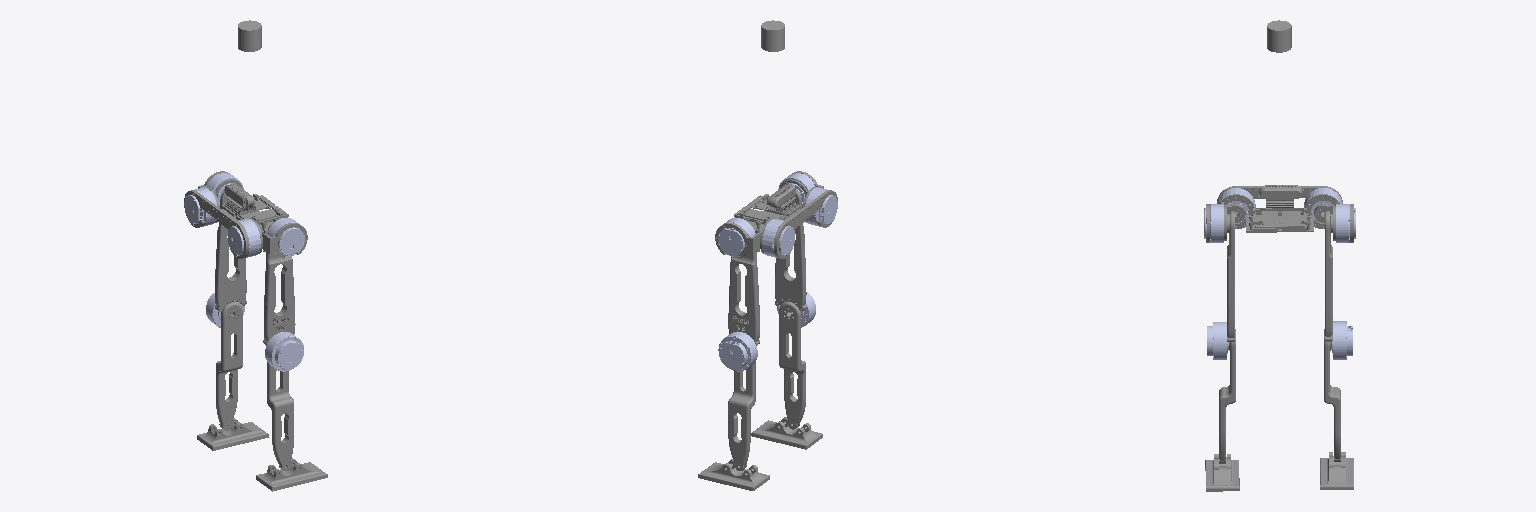
--- Render facts (derived) ---
Views: 3 orthographic renders of the robot side by side, from view 1: azimuth 30°, elevation 25°; view 2: azimuth 150°, elevation 25°; view 3: azimuth 270°, elevation 25°.
Model onshape with 19 links and 18 joints (8 revolute, 10 fixed), rooted at base, posed every joint at zero.
Visible links, largest first — view 1: left_shin, right_thigh_link, right_shin, left_thigh_link, right_foot, left_foot, right_knee_motor, base, back_hip_link, right_hip_pitch_motor, right_hip_roll_motor, additional_weight (+3 smaller); view 2: right_shin, left_thigh_link, left_shin, right_thigh_link, right_foot, left_foot, left_knee_motor, base, back_hip_link, left_hip_roll_motor, left_hip_pitch_motor, additional_weight (+3 smaller); view 3: base, left_foot, right_foot, right_thigh_link, left_thigh_link, right_shin, left_shin, depth_camera, left_knee_motor, additional_weight, right_knee_motor, front_hip_link (+2 smaller).
Boxes of the visible links, x1=… form: left_shin: x1=216, y1=302, x2=242, y2=430; right_thigh_link: x1=263, y1=222, x2=295, y2=345; right_shin: x1=267, y1=362, x2=293, y2=470; left_thigh_link: x1=215, y1=190, x2=246, y2=311; right_foot: x1=256, y1=458, x2=327, y2=491; left_foot: x1=197, y1=418, x2=268, y2=450; right_knee_motor: x1=265, y1=332, x2=303, y2=371; base: x1=221, y1=194, x2=288, y2=230; back_hip_link: x1=184, y1=190, x2=248, y2=258; right_hip_pitch_motor: x1=267, y1=218, x2=304, y2=257; right_hip_roll_motor: x1=228, y1=219, x2=260, y2=257; additional_weight: x1=238, y1=20, x2=261, y2=51; right_shin: x1=779, y1=302, x2=805, y2=429; left_thigh_link: x1=728, y1=221, x2=759, y2=345; left_shin: x1=728, y1=361, x2=755, y2=470; right_thigh_link: x1=775, y1=189, x2=806, y2=310; right_foot: x1=751, y1=417, x2=822, y2=449; left_foot: x1=698, y1=459, x2=769, y2=490; left_knee_motor: x1=718, y1=331, x2=757, y2=371; base: x1=734, y1=194, x2=800, y2=230; back_hip_link: x1=774, y1=190, x2=837, y2=258; left_hip_roll_motor: x1=762, y1=219, x2=794, y2=257; left_hip_pitch_motor: x1=718, y1=218, x2=755, y2=257; additional_weight: x1=761, y1=20, x2=784, y2=51; base: x1=1246, y1=208, x2=1313, y2=232; left_foot: x1=1320, y1=452, x2=1353, y2=489; right_foot: x1=1205, y1=454, x2=1239, y2=491; right_thigh_link: x1=1227, y1=211, x2=1234, y2=341; left_thigh_link: x1=1325, y1=211, x2=1332, y2=341; right_shin: x1=1219, y1=329, x2=1235, y2=463; left_shin: x1=1324, y1=329, x2=1340, y2=461; depth_camera: x1=1259, y1=185, x2=1302, y2=209; left_knee_motor: x1=1331, y1=321, x2=1352, y2=359; additional_weight: x1=1267, y1=20, x2=1291, y2=52; right_knee_motor: x1=1207, y1=322, x2=1228, y2=359; front_hip_link: x1=1219, y1=194, x2=1339, y2=228.
Size in the robot's own frame: 0.1906 by 0.3126 by 1.01 metres.
Meshes: 19 distinct files referenced, 19 mesh visuals loaded (19 binary STL).

robot.urdf — onshape:
<robot name="onshape">
  <link name="base">
    <visual>
      <origin xyz="-0.045730749519903440836 -0.0082072827577965683232 -0.0015259523696167201674" rpy="1.1287575842245359155e-06 1.2111745102661272307e-07 1.0877526837916786373e-10" />
      <geometry>
        <mesh filename="../meshes/base.stl"/>
      </geometry>
      <material name="base_material">
        <color rgba="0.62745098039215685404 0.62745098039215685404 0.62745098039215685404 1.0"/>
      </material>
    </visual>
    <collision>
      <origin xyz="-0.045730749519903440836 -0.0082072827577965683232 -0.0015259523696167201674" rpy="1.1287575842245359155e-06 1.2111745102661272307e-07 1.0877526837916786373e-10" />
      <geometry>
        <mesh filename="../meshes/base.stl"/>
      </geometry>
    </collision>
    <inertial>
      <origin xyz="0.009641034317188136582 -0.00044531973330051542606 0.14704238039010950057" rpy="0 0 0"/>
      <mass value="0.079808747893360745818" />
      <inertia ixx="0.00013030205881717430295" ixy="5.2522703368767829232e-07" ixz="-6.0372951836182364171e-06" iyy="7.7879538079020268733e-05" iyz="-6.8787272522159362914e-08" izz="0.00019751462545686818877" />
    </inertial>
  </link>

  <link name="front_hip_link">
    <visual>
      <origin xyz="0.0068676530549641439521 0.14076439629114745333 0.0050740043853120878059" rpy="1.5359093073540210916 -1.5680293120733510559 -4.7437124823534062086e-18" />
      <geometry>
        <mesh filename="../meshes/front_hip_link.stl"/>
      </geometry>
      <material name="front_hip_link_material">
        <color rgba="0.62745098039215685404 0.62745098039215685404 0.62745098039215685404 1.0"/>
      </material>
    </visual>
    <collision>
      <origin xyz="0.0068676530549641439521 0.14076439629114745333 0.0050740043853120878059" rpy="1.5359093073540210916 -1.5680293120733510559 -4.7437124823534062086e-18" />
      <geometry>
        <mesh filename="../meshes/front_hip_link.stl"/>
      </geometry>
    </collision>
    <inertial>
      <origin xyz="-2.0708261494473137155e-16 -1.5860522530747322989e-16 -0.0024999999999999996184" rpy="0 0 0"/>
      <mass value="0.040481629412169171933" />
      <inertia ixx="1.6307564497292241409e-05" ixy="7.6652781935439138388e-06" ixz="-4.9422583031528792093e-20" iyy="0.0002356583046680151537" iyz="-3.4272057502030976311e-22" izz="0.00025179719570942344113" />
    </inertial>
  </link>

  <link name="right_hip_roll_motor">
    <visual>
      <origin xyz="-0.081803134490043269422 0.18041787558075139675 0.010074004385312036736" rpy="1.5359093073548986119 -1.5680293120733554968 5.7609175276568746102e-18" />
      <geometry>
        <mesh filename="../meshes/right_hip_roll_motor.stl"/>
      </geometry>
      <material name="right_hip_roll_motor_material">
        <color rgba="0.79215686274509800047 0.81960784313725487671 0.93333333333333334814 1.0"/>
      </material>
    </visual>
    <collision>
      <origin xyz="-0.081803134490043269422 0.18041787558075139675 0.010074004385312036736" rpy="1.5359093073548986119 -1.5680293120733554968 5.7609175276568746102e-18" />
      <geometry>
        <mesh filename="../meshes/right_hip_roll_motor.stl"/>
      </geometry>
    </collision>
    <inertial>
      <origin xyz="0.0012042593384955918578 0.033039175850507612742 -0.015294958960932482014" rpy="0 0 0"/>
      <mass value="0.43109000312627787643" />
      <inertia ixx="0.00020733431482151921336" ixy="-2.4888440111499877061e-07" ixz="5.8890665633822342232e-07" iyy="0.00020669165269251427012" iyz="-9.5892831643057758225e-08" izz="0.0003320013282403831245" />
    </inertial>
  </link>

  <link name="right_hip_roll_to_pitch_link">
    <visual>
      <origin xyz="-0.082954223767753687557 -0.14743795754755950611 -0.0083740043853124425388" rpy="-1.605683346234665354 1.5680293120733512779 8.7936460767347865538e-18" />
      <geometry>
        <mesh filename="../meshes/right_hip_roll_to_pitch_link.stl"/>
      </geometry>
      <material name="right_hip_roll_to_pitch_link_material">
        <color rgba="0.62745098039215685404 0.62745098039215685404 0.62745098039215685404 1.0"/>
      </material>
    </visual>
    <collision>
      <origin xyz="-0.082954223767753687557 -0.14743795754755950611 -0.0083740043853124425388" rpy="-1.605683346234665354 1.5680293120733512779 8.7936460767347865538e-18" />
      <geometry>
        <mesh filename="../meshes/right_hip_roll_to_pitch_link.stl"/>
      </geometry>
    </collision>
    <inertial>
      <origin xyz="0.031680419746431626171 0.0034582889896500753311 -0.027209413175237839866" rpy="0 0 0"/>
      <mass value="0.045695605396871126491" />
      <inertia ixx="5.0984076036548068634e-05" ixy="-2.1814040497246072079e-06" ixz="1.4212217633911819925e-05" iyy="6.4164050105891309969e-05" iyz="3.6233257777906916119e-06" izz="3.8488709330492470269e-05" />
    </inertial>
  </link>

  <link name="right_hip_pitch_motor">
    <visual>
      <origin xyz="-0.065909043724676111276 -0.17563794455302653152 -0.14176108125382116953" rpy="-1.5707946421508571788 -0.0027653308658020601257 -5.7095621078178768904e-23" />
      <geometry>
        <mesh filename="../meshes/right_hip_pitch_motor.stl"/>
      </geometry>
      <material name="right_hip_pitch_motor_material">
        <color rgba="0.79215686274509800047 0.81960784313725487671 0.93333333333333334814 1.0"/>
      </material>
    </visual>
    <collision>
      <origin xyz="-0.065909043724676111276 -0.17563794455302653152 -0.14176108125382116953" rpy="-1.5707946421508571788 -0.0027653308658020601257 -5.7095621078178768904e-23" />
      <geometry>
        <mesh filename="../meshes/right_hip_pitch_motor.stl"/>
      </geometry>
    </collision>
    <inertial>
      <origin xyz="-0.01793234226342847043 -0.031126026203607014275 -0.013712645989826410808" rpy="0 0 0"/>
      <mass value="0.4299748309594162432" />
      <inertia ixx="0.0002059353604421458833" ixy="-2.4212674676479866087e-07" ixz="4.1578167110720044488e-08" iyy="0.00020651306450079860233" iyz="-6.059628266606604354e-07" izz="0.00033105106729853459599" />
    </inertial>
  </link>

  <link name="right_thigh_link">
    <visual>
      <origin xyz="-0.04791205293731684578 -0.14445929284068192988 -0.11260808125381957523" rpy="-1.5707946421508605095 -0.0027653308658020805087 -1.0228629501493198265e-24" />
      <geometry>
        <mesh filename="../meshes/right_thigh_link.stl"/>
      </geometry>
      <material name="right_thigh_link_material">
        <color rgba="0.62745098039215685404 0.62745098039215685404 0.62745098039215685404 1.0"/>
      </material>
    </visual>
    <collision>
      <origin xyz="-0.04791205293731684578 -0.14445929284068192988 -0.11260808125381957523" rpy="-1.5707946421508605095 -0.0027653308658020805087 -1.0228629501493198265e-24" />
      <geometry>
        <mesh filename="../meshes/right_thigh_link.stl"/>
      </geometry>
    </collision>
    <inertial>
      <origin xyz="0.0013136487452961448374 -0.12460737280558908946 -0.010238901930657934303" rpy="0 0 0"/>
      <mass value="0.21768660603706896373" />
      <inertia ixx="0.0014027683639551374959" ixy="1.0122485263375427528e-05" ixz="-1.1180785934677625053e-07" iyy="9.2762850966588512782e-05" iyz="6.3162863677351129802e-06" izz="0.0014861975388487640853" />
    </inertial>
  </link>

  <link name="right_knee_motor">
    <visual>
      <origin xyz="-0.047879359409329982911 -0.088514658039291149727 0.1110610812538199571" rpy="1.5707980114389359372 0.0027653308658020601257 1.2363360107722663189e-25" />
      <geometry>
        <mesh filename="../meshes/right_knee_motor.stl"/>
      </geometry>
      <material name="right_knee_motor_material">
        <color rgba="0.79215686274509800047 0.81960784313725487671 0.93333333333333334814 1.0"/>
      </material>
    </visual>
    <collision>
      <origin xyz="-0.047879359409329982911 -0.088514658039291149727 0.1110610812538199571" rpy="1.5707980114389359372 0.0027653308658020601257 1.2363360107722663189e-25" />
      <geometry>
        <mesh filename="../meshes/right_knee_motor.stl"/>
      </geometry>
    </collision>
    <inertial>
      <origin xyz="6.7930130872445593226e-05 0.03394737433289538725 -0.015287354010174447616" rpy="0 0 0"/>
      <mass value="0.42997483095943261899" />
      <inertia ixx="0.0002059353604421539064" ixy="2.4212674676418683838e-07" ixz="-4.1578167110056394174e-08" iyy="0.00020651306450080749279" iyz="-6.0596282665939443878e-07" izz="0.00033105106729854809431" />
    </inertial>
  </link>

  <link name="right_shin">
    <visual>
      <origin xyz="-0.047882641016271584866 0.1225146578809256509 -0.10856108125382006591" rpy="-1.5707946421508571788 -0.002765330865802059692 3.8517414957264724938e-25" />
      <geometry>
        <mesh filename="../meshes/right_shin.stl"/>
      </geometry>
      <material name="right_shin_material">
        <color rgba="0.62745098039215685404 0.62745098039215685404 0.62745098039215685404 1.0"/>
      </material>
    </visual>
    <collision>
      <origin xyz="-0.047882641016271584866 0.1225146578809256509 -0.10856108125382006591" rpy="-1.5707946421508571788 -0.002765330865802059692 3.8517414957264724938e-25" />
      <geometry>
        <mesh filename="../meshes/right_shin.stl"/>
      </geometry>
    </collision>
    <inertial>
      <origin xyz="0.0003022633610314448549 -0.12257031697607632947 0.0023367562055258417342" rpy="0 0 0"/>
      <mass value="0.18385415257934586974" />
      <inertia ixx="0.001191184547678841377" ixy="6.1026978168111930227e-06" ixz="-5.8145358399052174064e-07" iyy="6.0813620180282876716e-05" iyz="0.00012578425378902068315" izz="0.0012070183791883174872" />
    </inertial>
  </link>

  <link name="right_foot">
    <visual>
      <origin xyz="-0.024986104016077221451 -0.38188187616103669297 0.12156108125383312257" rpy="1.5707980114389059612 0.0027653308658299414688 2.978045120310355585e-25" />
      <geometry>
        <mesh filename="../meshes/right_foot.stl"/>
      </geometry>
      <material name="right_foot_material">
        <color rgba="0.62745098039215685404 0.62745098039215685404 0.62745098039215685404 1.0"/>
      </material>
    </visual>
    <collision>
      <origin xyz="-0.024986104016077221451 -0.38188187616103669297 0.12156108125383312257" rpy="1.5707980114389059612 0.0027653308658299414688 2.978045120310355585e-25" />
      <geometry>
        <mesh filename="../meshes/right_foot.stl"/>
      </geometry>
    </collision>
    <inertial>
      <origin xyz="0.015187537188716163442 0.026002543049749284043 -0.00034050842587196594735" rpy="0 0 0"/>
      <mass value="0.14503328477818819287" />
      <inertia ixx="5.3255271905498670207e-05" ixy="-2.8142667493147971211e-06" ixz="9.3713677586380323379e-08" iyy="0.00023359086142356002462" iyz="1.9366104437049404114e-07" izz="0.0001950516650155631655" />
    </inertial>
  </link>

  <joint name="right_ankle_joint" type="revolute">
    <origin xyz="0.0033478924446542525362 -0.26680257520792788339 0.013000000000000044506" rpy="3.141592653589793116 -2.8406096919120211241e-16 -8.250218779494172183e-19" />
    <parent link="right_shin" />
    <child link="right_foot" />
    <axis xyz="0 0 1"/>
    <limit effort="8" velocity="22" lower="-0.52359877559829881566" upper="0.52359877559829881566"/>
    <joint_properties friction="0.0"/>
  </joint>

  <joint name="right_knee_joint" type="revolute">
    <origin xyz="3.2816069418274695924e-06 0.033999999841633807285 0.0039999999999997051803" rpy="-3.1415926535897895633 -3.426078865054340074e-17 7.0324984147583861797e-16" />
    <parent link="right_knee_motor" />
    <child link="right_shin" />
    <axis xyz="0 0 1"/>
    <limit effort="8" velocity="22" lower="-0.87266462599716476678" upper="0"/>
    <joint_properties friction="0.0"/>
  </joint>

  <joint name="right_knee_motor_to_thigh_fixed_joint" type="fixed">
    <origin xyz="-3.7073482355164805169e-05 -0.23294459131218311909 -0.0015469999999985874824" rpy="3.1415926535897895633 -2.1250362580716114937e-17 -9.1336249262340595243e-18" />
    <parent link="right_thigh_link" />
    <child link="right_knee_motor" />
    <axis xyz="0 0 1"/>
    <limit effort="8" velocity="22" />
    <joint_properties friction="0.0"/>
  </joint>

  <joint name="right_hip_pitch_joint" type="revolute">
    <origin xyz="-0.017996990787359258557 -0.031178651712344906954 -0.033000000000000286049" rpy="9.2382707183473101761e-18 1.4745149545802783265e-17 1.1926713100003838507e-07" />
    <parent link="right_hip_pitch_motor" />
    <child link="right_thigh_link" />
    <axis xyz="0 0 1"/>
    <limit effort="8" velocity="22" lower="-0.34906585039886589561" upper="1.570796326794896558"/>
    <joint_properties friction="0.0"/>
  </joint>

  <joint name="right_hip_pitch_motor_to_linkage_fixed_joint" type="fixed">
    <origin xyz="0.052594297710990965677 0.033031583364208499942 -0.074299999999999200018" rpy="-1.5707963267949460739 1.5706998089435024735 -1.5359077561630709585" />
    <parent link="right_hip_roll_to_pitch_link" />
    <child link="right_hip_pitch_motor" />
    <axis xyz="0 0 1"/>
    <limit effort="8" velocity="22" />
    <joint_properties friction="0.0"/>
  </joint>

  <joint name="right_hip_roll_joint" type="revolute">
    <origin xyz="0.001151089277675657746 0.0329799180331730446 0.0039999999999999619194" rpy="3.1415926535897917837 1.6913553890773881496e-17 1.0824674490095284158e-15" />
    <parent link="right_hip_roll_motor" />
    <child link="right_hip_roll_to_pitch_link" />
    <axis xyz="0 0 1"/>
    <limit effort="8" velocity="22" lower="-0.26179938779914940783" upper="0.26179938779914940783"/>
    <joint_properties friction="0.0"/>
  </joint>

  <joint name="right_hip_roll_motor_to_front_linkage_fixed_joint" type="fixed">
    <origin xyz="0.088670787544849083428 -0.039653479289675330755 -0.0049999999999999142353" rpy="1.2175590397012357775e-16 -7.025630077706252389e-17 -5.5511151231259281483e-17" />
    <parent link="front_hip_link" />
    <child link="right_hip_roll_motor" />
    <axis xyz="0 0 1"/>
    <limit effort="8" velocity="22" />
    <joint_properties friction="0.0"/>
  </joint>

  <link name="left_hip_roll_motor">
    <visual>
      <origin xyz="0.09808732750907936393 0.17413920679343103393 0.01007400438531257103" rpy="1.5359093073549092701 -1.5680293120733546086 -8.0818295554242873886e-19" />
      <geometry>
        <mesh filename="../meshes/left_hip_roll_motor.stl"/>
      </geometry>
      <material name="left_hip_roll_motor_material">
        <color rgba="0.79215686274509800047 0.81960784313725487671 0.93333333333333334814 1.0"/>
      </material>
    </visual>
    <collision>
      <origin xyz="0.09808732750907936393 0.17413920679343103393 0.01007400438531257103" rpy="1.5359093073549092701 -1.5680293120733546086 -8.0818295554242873886e-19" />
      <geometry>
        <mesh filename="../meshes/left_hip_roll_motor.stl"/>
      </geometry>
    </collision>
    <inertial>
      <origin xyz="0.0010989152710202676477 0.032917468039669113555 -0.015648809696025580557" rpy="0 0 0"/>
      <mass value="0.43897000599690344513" />
      <inertia ixx="0.00021253150673006249421" ixy="-2.5958592872739601143e-07" ixz="-5.8075860837089656353e-07" iyy="0.00021200189735599085693" iyz="6.3173078603908032536e-08" izz="0.00033506965022296646617" />
    </inertial>
  </link>

  <link name="back_hip_link">
    <visual>
      <origin xyz="0.098191971989005616406 0.1771373811600074899 0.039074004385311847387" rpy="1.5359093073541405516 -1.5680293120733512779 2.1343095490999413665e-18" />
      <geometry>
        <mesh filename="../meshes/back_hip_link.stl"/>
      </geometry>
      <material name="back_hip_link_material">
        <color rgba="0.62745098039215685404 0.62745098039215685404 0.62745098039215685404 1.0"/>
      </material>
    </visual>
    <collision>
      <origin xyz="0.098191971989005616406 0.1771373811600074899 0.039074004385311847387" rpy="1.5359093073541405516 -1.5680293120733512779 2.1343095490999413665e-18" />
      <geometry>
        <mesh filename="../meshes/back_hip_link.stl"/>
      </geometry>
    </collision>
    <inertial>
      <origin xyz="0.090703591419510565252 0.018588488959413732721 -0.0040000000000000243694" rpy="0 0 0"/>
      <mass value="0.050254393377621164873" />
      <inertia ixx="3.1136659601603291451e-05" ixy="8.7365658387557205549e-06" ixz="2.8229613095601899805e-20" iyy="0.00028114352626715748531" iyz="-1.4466756024313924841e-20" izz="0.00031174413900606618138" />
    </inertial>
  </link>

  <joint name="back_linkage_to_left_hip_roll_motor_fixed_joint" type="fixed">
    <origin xyz="-0.00010464447978997433453 -0.0029981743666519788949 -0.028999999999999991063" rpy="1.1038126792803423063e-15 -4.3368086899421188088e-17 1.0269562977782936629e-15" />
    <parent link="left_hip_roll_motor" />
    <child link="back_hip_link" />
    <axis xyz="0 0 1"/>
    <limit effort="8" velocity="22" />
    <joint_properties friction="0.0"/>
  </joint>

  <link name="left_hip_roll_to_pitch_link">
    <visual>
      <origin xyz="0.096936238231398338949 -0.14115928876026237471 -0.0070740043853120583572" rpy="-1.6056833462348363284 1.5680293120733508339 -3.9307063828906713151e-18" />
      <geometry>
        <mesh filename="../meshes/left_hip_roll_to_pitch_link.stl"/>
      </geometry>
      <material name="left_hip_roll_to_pitch_link_material">
        <color rgba="0.62745098039215685404 0.62745098039215685404 0.62745098039215685404 1.0"/>
      </material>
    </visual>
    <collision>
      <origin xyz="0.096936238231398338949 -0.14115928876026237471 -0.0070740043853120583572" rpy="-1.6056833462348363284 1.5680293120733508339 -3.9307063828906713151e-18" />
      <geometry>
        <mesh filename="../meshes/left_hip_roll_to_pitch_link.stl"/>
      </geometry>
    </collision>
    <inertial>
      <origin xyz="-0.031843541150567700182 0.0012408502186427878416 -0.027207704809772852161" rpy="0 0 0"/>
      <mass value="0.045701023664035354821" />
      <inertia ixx="5.0747700958177983433e-05" ixy="1.2436680862017957634e-06" ixz="-1.4430845924740583891e-05" iyy="6.4404864140108836678e-05" iyz="2.6237882262355150113e-06" izz="3.8490890423216000916e-05" />
    </inertial>
  </link>

  <link name="left_hip_pitch_motor">
    <visual>
      <origin xyz="-0.031209043886303893672 0.17563459538358894285 -0.14566788413743919639" rpy="1.5707980114389359372 0.0027653308657986318785 1.0113547972551493221e-23" />
      <geometry>
        <mesh filename="../meshes/left_hip_pitch_motor.stl"/>
      </geometry>
      <material name="left_hip_pitch_motor_material">
        <color rgba="0.79215686274509800047 0.81960784313725487671 0.93333333333333334814 1.0"/>
      </material>
    </visual>
    <collision>
      <origin xyz="-0.031209043886303893672 0.17563459538358894285 -0.14566788413743919639" rpy="1.5707980114389359372 0.0027653308657986318785 1.0113547972551493221e-23" />
      <geometry>
        <mesh filename="../meshes/left_hip_pitch_motor.stl"/>
      </geometry>
    </collision>
    <inertial>
      <origin xyz="0.018067667726119587129 0.031227790098252362905 -0.013712645989826660609" rpy="0 0 0"/>
      <mass value="0.4299748309594182416" />
      <inertia ixx="0.0002059352669854467167" ixy="-2.4201521121000274581e-07" ixz="4.14611925708869234e-08" iyy="0.00020651315795749459765" iyz="-6.059708427800078683e-07" izz="0.00033105106729853020497" />
    </inertial>
  </link>

  <link name="left_thigh_link">
    <visual>
      <origin xyz="-0.049212052931262115218 0.14445941831388883769 -0.11366788413743877939" rpy="1.5707980114389374915 0.0027653308657986435878 2.0461722292546014307e-23" />
      <geometry>
        <mesh filename="../meshes/left_thigh_link.stl"/>
      </geometry>
      <material name="left_thigh_link_material">
        <color rgba="0.62745098039215685404 0.62745098039215685404 0.62745098039215685404 1.0"/>
      </material>
    </visual>
    <collision>
      <origin xyz="-0.049212052931262115218 0.14445941831388883769 -0.11366788413743877939" rpy="1.5707980114389374915 0.0027653308657986435878 2.0461722292546014307e-23" />
      <geometry>
        <mesh filename="../meshes/left_thigh_link.stl"/>
      </geometry>
    </collision>
    <inertial>
      <origin xyz="-0.0012895938184498897949 0.12460710475159411659 -0.010238876584640829726" rpy="0 0 0"/>
      <mass value="0.21768768142751984684" />
      <inertia ixx="0.001402783920390619516" ixy="9.8695211849199996376e-06" ixz="1.105869932882342052e-07" iyy="9.2759380904700288861e-05" iyz="-6.3158292180339749731e-06" izz="0.001486209605667730433" />
    </inertial>
  </link>

  <link name="left_knee_motor">
    <visual>
      <origin xyz="-0.049289718748700764306 0.088514521914436886108 0.11212088413743877269" rpy="-1.5707946421508574009 -0.0027653308657986110618 1.4552236565944162434e-23" />
      <geometry>
        <mesh filename="../meshes/left_knee_motor.stl"/>
      </geometry>
      <material name="left_knee_motor_material">
        <color rgba="0.79215686274509800047 0.81960784313725487671 0.93333333333333334814 1.0"/>
      </material>
    </visual>
    <collision>
      <origin xyz="-0.049289718748700764306 0.088514521914436886108 0.11212088413743877269" rpy="-1.5707946421508574009 -0.0027653308657986110618 1.4552236565944162434e-23" />
      <geometry>
        <mesh filename="../meshes/left_knee_motor.stl"/>
      </geometry>
    </collision>
    <inertial>
      <origin xyz="6.7940288104084700649e-05 -0.034052612870186016458 -0.015287354010173628827" rpy="0 0 0"/>
      <mass value="0.42997483095943006548" />
      <inertia ixx="0.00020593526698545257139" ixy="2.4201521120895962473e-07" ixz="-4.1461192569571269475e-08" iyy="0.00020651315795750004576" iyz="-6.0597084278000140967e-07" izz="0.00033105106729853833649" />
    </inertial>
  </link>

  <link name="left_shin">
    <visual>
      <origin xyz="-0.049326529997034615493 -0.12249468138487798474 -0.11205499861281771612" rpy="1.5707980114389359372 0.0027653308657986110618 1.7238592809659610236e-23" />
      <geometry>
        <mesh filename="../meshes/left_shin.stl"/>
      </geometry>
      <material name="left_shin_material">
        <color rgba="0.62745098039215685404 0.62745098039215685404 0.62745098039215685404 1.0"/>
      </material>
    </visual>
    <collision>
      <origin xyz="-0.049326529997034615493 -0.12249468138487798474 -0.11205499861281771612" rpy="1.5707980114389359372 0.0027653308657986110618 1.7238592809659610236e-23" />
      <geometry>
        <mesh filename="../meshes/left_shin.stl"/>
      </geometry>
    </collision>
    <inertial>
      <origin xyz="-0.00027860294760152781723 0.12257037299238925099 0.0023367562187095736181" rpy="0 0 0"/>
      <mass value="0.18385415303260232989" />
      <inertia ixx="0.001191186863019899362" ixy="5.8844953320175807566e-06" ixz="5.5717276879572237918e-07" iyy="6.081130623998987349e-05" iyz="-0.00012578436364817652672" izz="0.001207018380618317269" />
    </inertial>
  </link>

  <link name="left_foot">
    <visual>
      <origin xyz="-0.019785710592207073066 -0.38186254095686411603 -0.12505499861280486296" rpy="1.570798011438905295 0.0027653308658298113645 1.2529502101699477535e-24" />
      <geometry>
        <mesh filename="../meshes/left_foot.stl"/>
      </geometry>
      <material name="left_foot_material">
        <color rgba="0.62745098039215685404 0.62745098039215685404 0.62745098039215685404 1.0"/>
      </material>
    </visual>
    <collision>
      <origin xyz="-0.019785710592207073066 -0.38186254095686411603 -0.12505499861280486296" rpy="1.570798011438905295 0.0027653308658298113645 1.2529502101699477535e-24" />
      <geometry>
        <mesh filename="../meshes/left_foot.stl"/>
      </geometry>
    </collision>
    <inertial>
      <origin xyz="0.015187537188716154768 0.026002543049749405474 -0.00034050842587178553611" rpy="0 0 0"/>
      <mass value="0.14503328477819069087" />
      <inertia ixx="5.3255271905500913151e-05" ixy="-2.8142667493146031506e-06" ixz="9.3713677585956118691e-08" iyy="0.00023359086142356563537" iyz="1.936610443706030437e-07" izz="0.00019505166501556687889" />
    </inertial>
  </link>

  <joint name="left_ankle_joint" type="revolute">
    <origin xyz="-0.0032963899599866078316 0.26680321649979088505 0.013000000000000698497" rpy="-4.2351647362715026357e-22 2.957703526540456096e-16 -1.0927227567586433637e-12" />
    <parent link="left_shin" />
    <child link="left_foot" />
    <axis xyz="0 0 1"/>
    <limit effort="8" velocity="22" lower="-0.52359877559829881566" upper="0.52359877559829881566"/>
    <joint_properties friction="0.0"/>
  </joint>

  <joint name="left_knee_joint" type="revolute">
    <origin xyz="3.2816069428266703145e-06 -0.033999999841633168907 0.0040000000000004103454" rpy="3.1415926535897891192 -3.3827107781547738341e-17 -6.1823809722771156113e-13" />
    <parent link="left_knee_motor" />
    <child link="left_shin" />
    <axis xyz="0 0 1"/>
    <limit effort="8" velocity="22" lower="0" upper="0.87266462599716476678"/>
    <joint_properties friction="0.0"/>
  </joint>

  <joint name="left_knee_motor_to_thigh_fixed_joint" type="fixed">
    <origin xyz="8.2040104280253073332e-05 0.2329445798155964642 -0.0015469999999995537234" rpy="-3.1415926535897891192 8.2399365108898259947e-18 4.8421315228969230327e-16" />
    <parent link="left_thigh_link" />
    <child link="left_knee_motor" />
    <axis xyz="0 0 1"/>
    <limit effort="8" velocity="22" />
    <joint_properties friction="0.0"/>
  </joint>

  <joint name="left_hip_pitch_joint" type="revolute">
    <origin xyz="0.018003009044958225016 0.031175177069699022692 -0.033000000000000195843" rpy="-9.5291206566108472172e-21 -3.5561831257524570087e-17 1.6575893780495051809e-12" />
    <parent link="left_hip_pitch_motor" />
    <child link="left_thigh_link" />
    <axis xyz="0 0 1"/>
    <limit effort="8" velocity="22" lower="-1.570796326794896558" upper="0.34906585039886589561"/>
    <joint_properties friction="0.0"/>
  </joint>

  <joint name="left_hip_pitch_motor_to_linkage_fixed_joint" type="fixed">
    <origin xyz="-0.054769292379690727446 0.029284300631686660532 -0.038299999999999542744" rpy="1.5707963267947753216 1.5706998089435029176 -1.5359077561628113884" />
    <parent link="left_hip_roll_to_pitch_link" />
    <child link="left_hip_pitch_motor" />
    <axis xyz="0 0 1"/>
    <limit effort="8" velocity="22" />
    <joint_properties friction="0.0"/>
  </joint>

  <joint name="left_hip_roll_joint" type="revolute">
    <origin xyz="0.0011510892776742560895 0.032979918033173183378 0.0040000000000000660028" rpy="-3.141592653589793116 3.0791341698589194905e-17 -1.1290875491096140677e-06" />
    <parent link="left_hip_roll_motor" />
    <child link="left_hip_roll_to_pitch_link" />
    <axis xyz="0 0 1"/>
    <limit effort="8" velocity="22" lower="-0.26179938779914940783" upper="0.26179938779914940783"/>
    <joint_properties friction="0.0"/>
  </joint>

  <joint name="left_hip_roll_motor_to_front_linkage_fixed_joint" type="fixed">
    <origin xyz="-0.091219674454270816 -0.033374810502195845219 -0.0049999999999999072964" rpy="-9.4901571410372243863e-16 7.3725747729013731437e-18 -8.0491169285323227953e-16" />
    <parent link="front_hip_link" />
    <child link="left_hip_roll_motor" />
    <axis xyz="0 0 1"/>
    <limit effort="8" velocity="22" />
    <joint_properties friction="0.0"/>
  </joint>

  <joint name="front_linkage_to_base_fixed_joint" type="fixed">
    <origin xyz="-0.036822925315030882731 -0.00029314796128852312453 0.14240789349262056307" rpy="-1.5706998729030896556 0.034888014919834939298 -1.5680276313644831987" />
    <parent link="base" />
    <child link="front_hip_link" />
    <axis xyz="0 0 1"/>
    <limit effort="8" velocity="22" />
    <joint_properties friction="0.0"/>
  </joint>

  <link name="depth_camera">
    <visual>
      <origin xyz="-0.099451358383363094862 0.010894693676956487827 0.17227374073096130003" rpy="3.1388286174942225948 -8.8869708681278840909e-05 2.2295102535759732927e-23" />
      <geometry>
        <mesh filename="../meshes/depth_camera.stl"/>
      </geometry>
      <material name="depth_camera_material">
        <color rgba="0.62745098039215685404 0.62745098039215685404 0.62745098039215685404 1.0"/>
      </material>
    </visual>
    <collision>
      <origin xyz="-0.099451358383363094862 0.010894693676956487827 0.17227374073096130003" rpy="3.1388286174942225948 -8.8869708681278840909e-05 2.2295102535759732927e-23" />
      <geometry>
        <mesh filename="../meshes/depth_camera.stl"/>
      </geometry>
    </collision>
    <inertial>
      <origin xyz="-0.022160478650602527528 -0.0027849148368827760652 -0.023101626853568840714" rpy="0 0 0"/>
      <mass value="0.065987682429507144022" />
      <inertia ixx="4.1142284823982656948e-05" ixy="-5.7653221964365736294e-07" ixz="-9.7065276573838863447e-07" iyy="1.3925942294934766339e-05" iyz="-3.0620295525600803329e-07" izz="3.7004895783553203167e-05" />
    </inertial>
  </link>

  <joint name="depth_camera_to_base_fixed_joint" type="fixed">
    <origin xyz="0.0048566507576430217874 -0.00025467832921916824709 0.17018425449636453983" rpy="-3.1388274887257487933 -8.87482514754439416e-05 -2.4563030717200752168e-07" />
    <parent link="base" />
    <child link="depth_camera" />
    <axis xyz="0 0 1"/>
    <limit effort="8" velocity="22" />
    <joint_properties friction="0.0"/>
  </joint>

  <link name="additional_weight">
    <visual>
      <origin xyz="8.6736173798840354721e-19 1.4772254600114997913e-18 0.5" rpy="-3.141592653589793116 1.2910014615268242683e-20 -1.0587911840678756589e-22" />
      <geometry>
        <mesh filename="../meshes/additional_weight.stl"/>
      </geometry>
      <material name="additional_weight_material">
        <color rgba="0.64705882352941179736 0.64705882352941179736 0.64705882352941179736 1.0"/>
      </material>
    </visual>
    <collision>
      <origin xyz="8.6736173798840354721e-19 1.4772254600114997913e-18 0.5" rpy="-3.141592653589793116 1.2910014615268242683e-20 -1.0587911840678756589e-22" />
      <geometry>
        <mesh filename="../meshes/additional_weight.stl"/>
      </geometry>
    </collision>
    <inertial>
      <origin xyz="2.0869808447277112491e-18 -2.8848145734738735855e-19 -0.025000000000000022204" rpy="0 0 0"/>
      <mass value="0.77795469648269044427" />
      <inertia ixx="0.00028477799918641844706" ixy="-3.0152043495506850908e-26" ixz="-3.5735686972392727071e-24" iyy="0.00028477799918641844706" iyz="2.2993161513581575266e-22" izz="0.00024540820817171588725" />
    </inertial>
  </link>

  <joint name="additional_weight_to_base_fixed_joint" type="fixed">
    <origin xyz="0.0048238137788702145636 -0.0012777880170428402001 0.5401828385048781378" rpy="-3.1388274887257483492 -8.8748251474059442531e-05 -2.4563030720862417365e-07" />
    <parent link="base" />
    <child link="additional_weight" />
    <axis xyz="0 0 1"/>
    <limit effort="8" velocity="22" />
    <joint_properties friction="0.0"/>
  </joint>


</robot>
